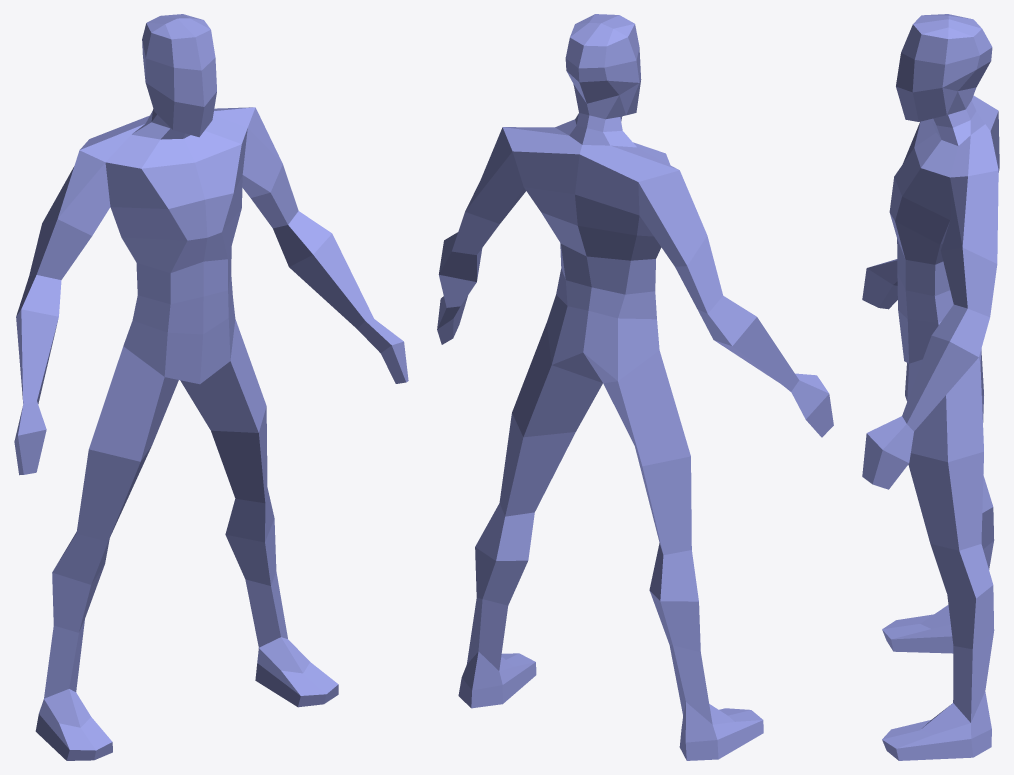
Rendered from player2.fbx.
3 views of the same model, side by side, from view 1: azimuth 30°, elevation 25°; view 2: azimuth 150°, elevation 25°; view 3: azimuth 270°, elevation 25° (orthographic). The views are drawn at different scales.
Visible parts, largest first — view 1: BASE_Low Poly Man; view 2: BASE_Low Poly Man; view 3: BASE_Low Poly Man.
Part boxes in pixels (box(x1,y1,x2,y2)): BASE_Low Poly Man: box(14, 14, 408, 760); BASE_Low Poly Man: box(437, 14, 833, 760); BASE_Low Poly Man: box(862, 14, 999, 760).
Size of the model in its own units: 47.75 by 81.61 by 15.03.
